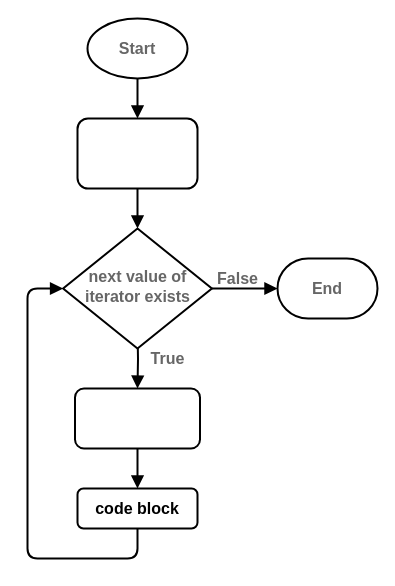
The diagram is 395 pixels wide and 586 high, and some of its shapes have lost their labels. The centre of each missing label's shape, as x and y in pixels:
i is set to the next value of the iterator: point 137,418
iterator is instanced from iterable object: point 137,153
